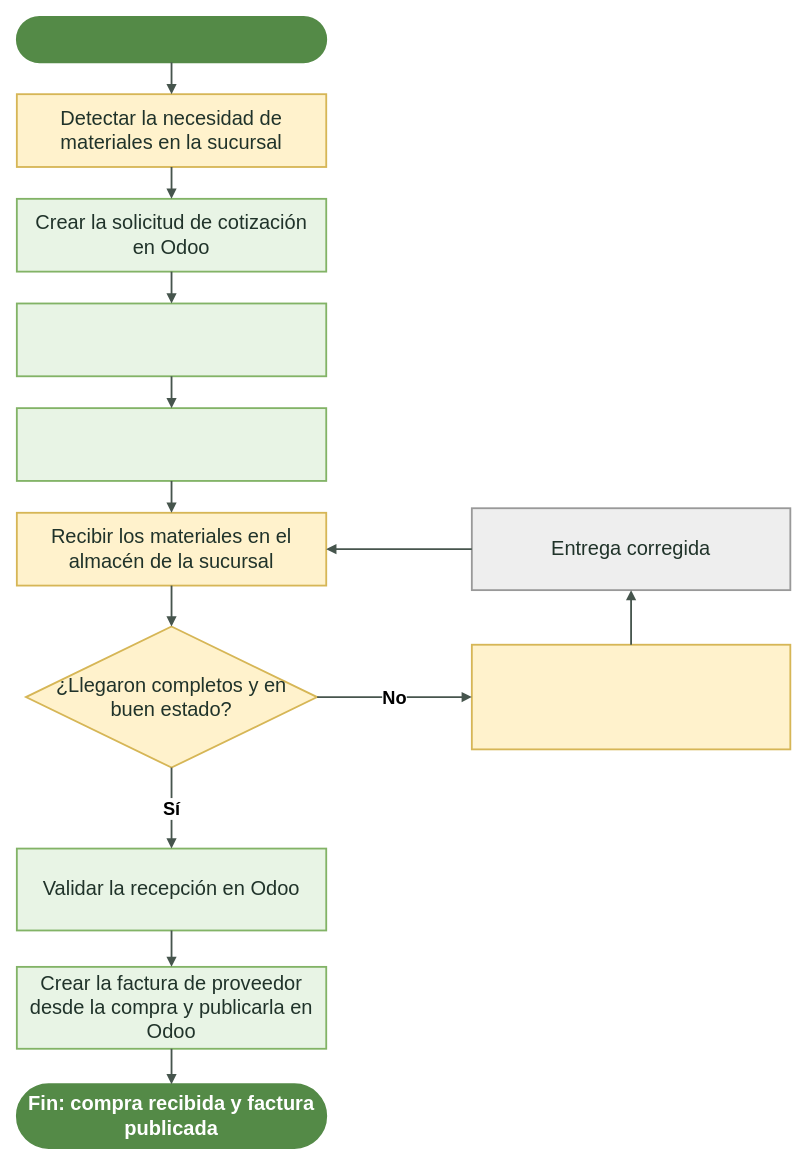
The diagram is 806 pixels wide and 1164 high, and some of its shapes have lost their labels. Each missing label, with the box of its shape:
Comparar cotizaciones y seleccionar al proveedor: (15, 302, 327, 377)
Confirmar la orden de compra en Odoo: (15, 407, 327, 481)
Informar diferencias al proveedor y acordar la corrección de la entrega: (470, 643, 791, 750)
Inicio: (15, 15, 327, 63)
